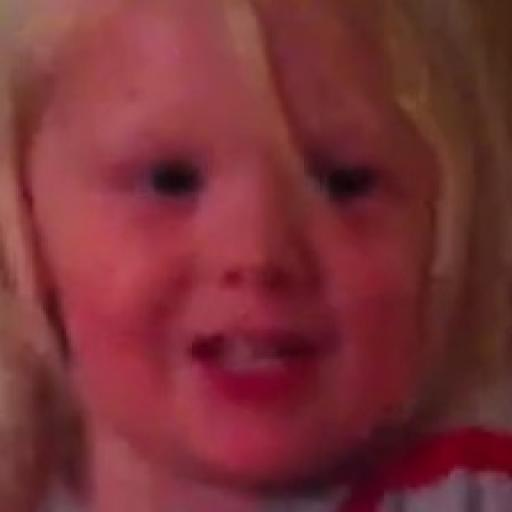Autism: (44, 47, 463, 499)
